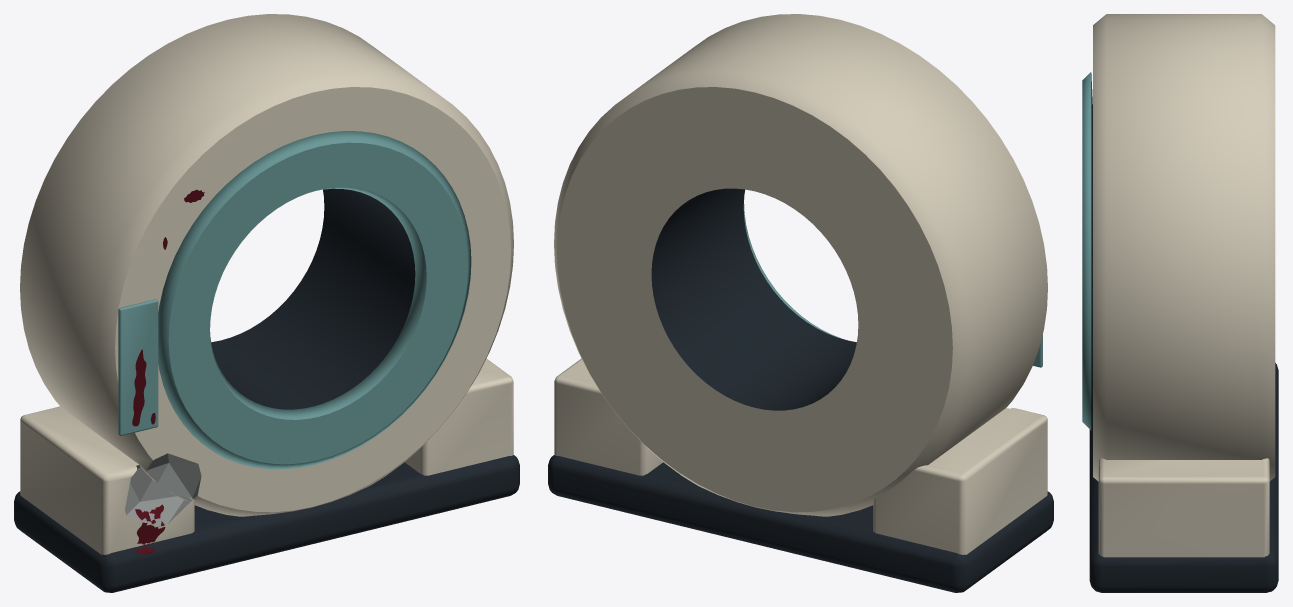
The model's file is ct_scanner_gantry.glb.
The picture shows the model from 3 angles, left to right: view 1: azimuth 30°, elevation 25°; view 2: azimuth 150°, elevation 25°; view 3: azimuth 270°, elevation 25°; orthographic projection.
Parts seen in each view (by area): view 1: Static_Shell_Mesh; view 2: Static_Shell_Mesh; view 3: Static_Shell_Mesh.
Part boxes in pixels (x1,y1,x2,y2): Static_Shell_Mesh: [14, 14, 519, 592]; Static_Shell_Mesh: [548, 14, 1053, 592]; Static_Shell_Mesh: [1082, 14, 1278, 592].
Bounding box in the file's own units: 2.13 × 2.26 × 0.872.
